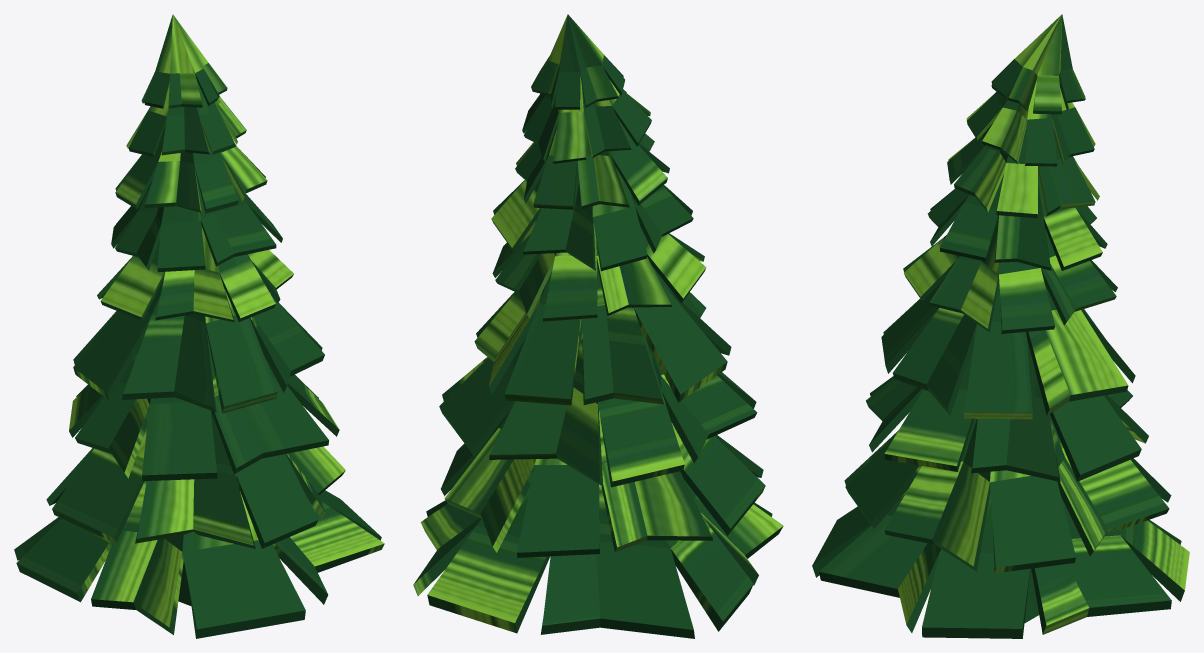
File: spruce_3.obj
3 renders of one model, left to right at view 1: azimuth 30°, elevation 25°; view 2: azimuth 150°, elevation 25°; view 3: azimuth 270°, elevation 25°, orthographic. The views are drawn at different scales.
Parts seen in each view (by area): view 1: spruce_3_Cylinder.003; view 2: spruce_3_Cylinder.003; view 3: spruce_3_Cylinder.003.
Boxes of the visible parts, x1,y1,x2,y2 form: spruce_3_Cylinder.003: (14, 14, 384, 638); spruce_3_Cylinder.003: (413, 14, 783, 638); spruce_3_Cylinder.003: (812, 14, 1189, 638).
Bounding box in the file's own units: 6.13 × 11.05 × 6.34.
